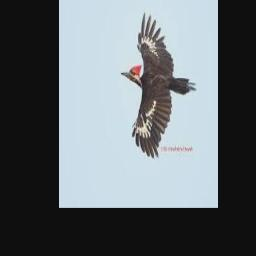Woodpecker: (122, 12, 197, 157)
